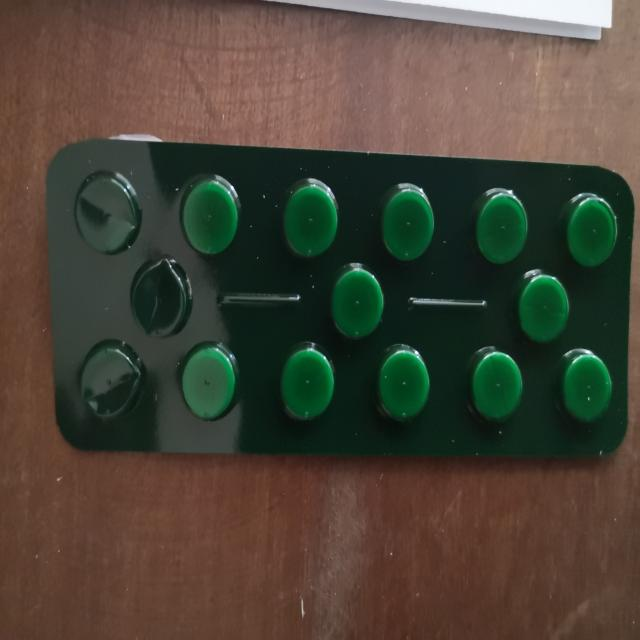Empty: (70, 164, 143, 252), (75, 338, 144, 426), (126, 259, 195, 337)
Pill: (176, 170, 246, 258), (274, 173, 342, 260), (373, 340, 436, 430), (273, 338, 339, 422), (465, 180, 529, 264), (461, 340, 526, 422), (373, 176, 433, 264), (178, 340, 240, 419), (512, 268, 573, 346), (561, 188, 618, 271), (557, 345, 614, 427), (330, 262, 384, 342)
